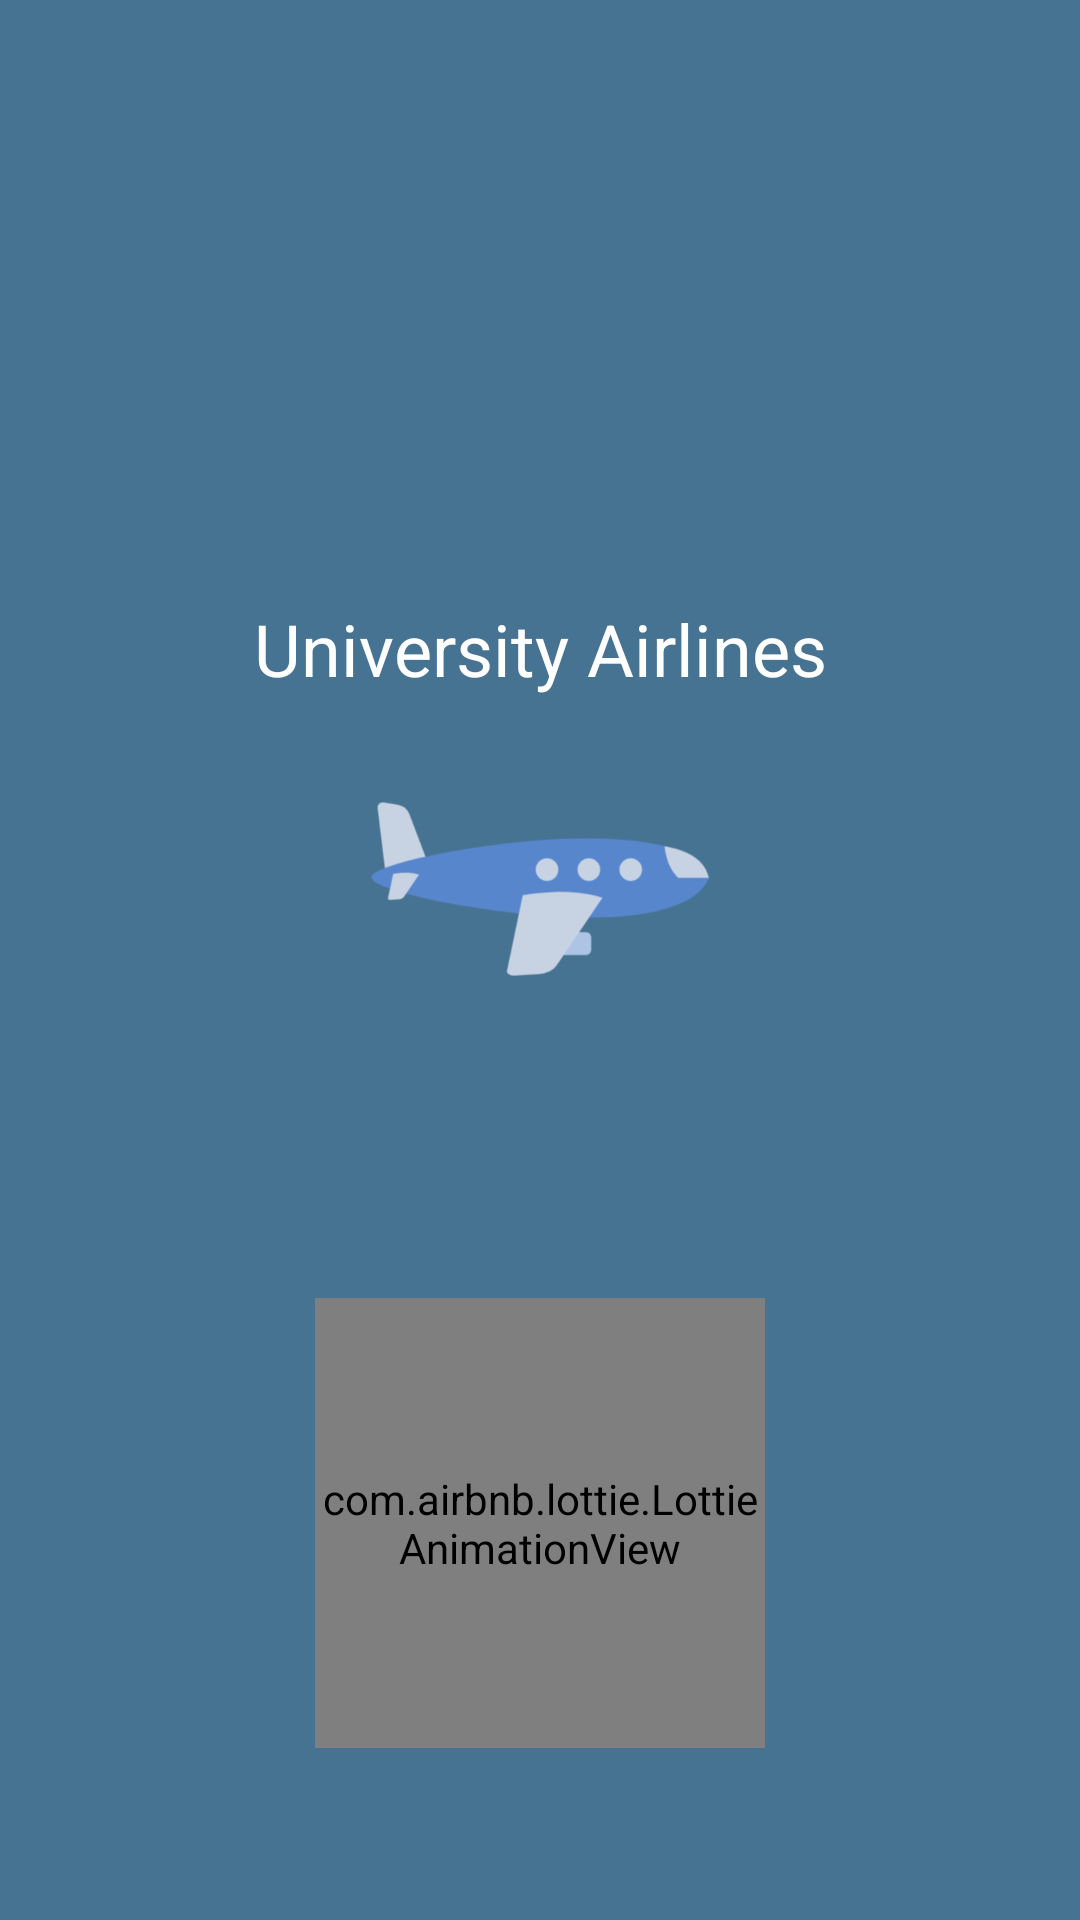

Point at icon controls on the screen. Image size 1080 × 1920, points as [x,y].
airplane: [540,889]
